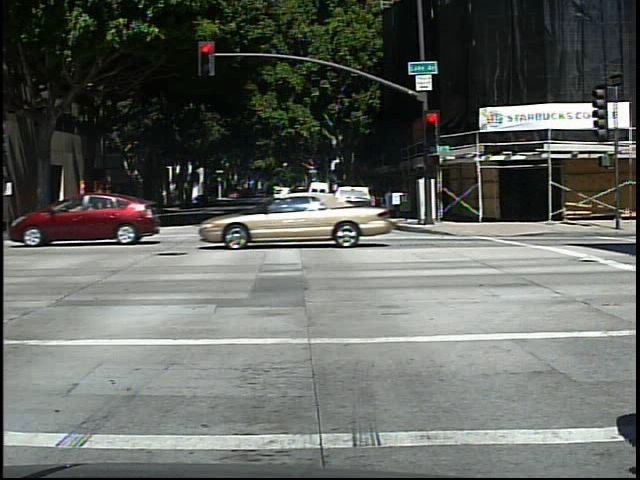person: (85, 184, 115, 237)
